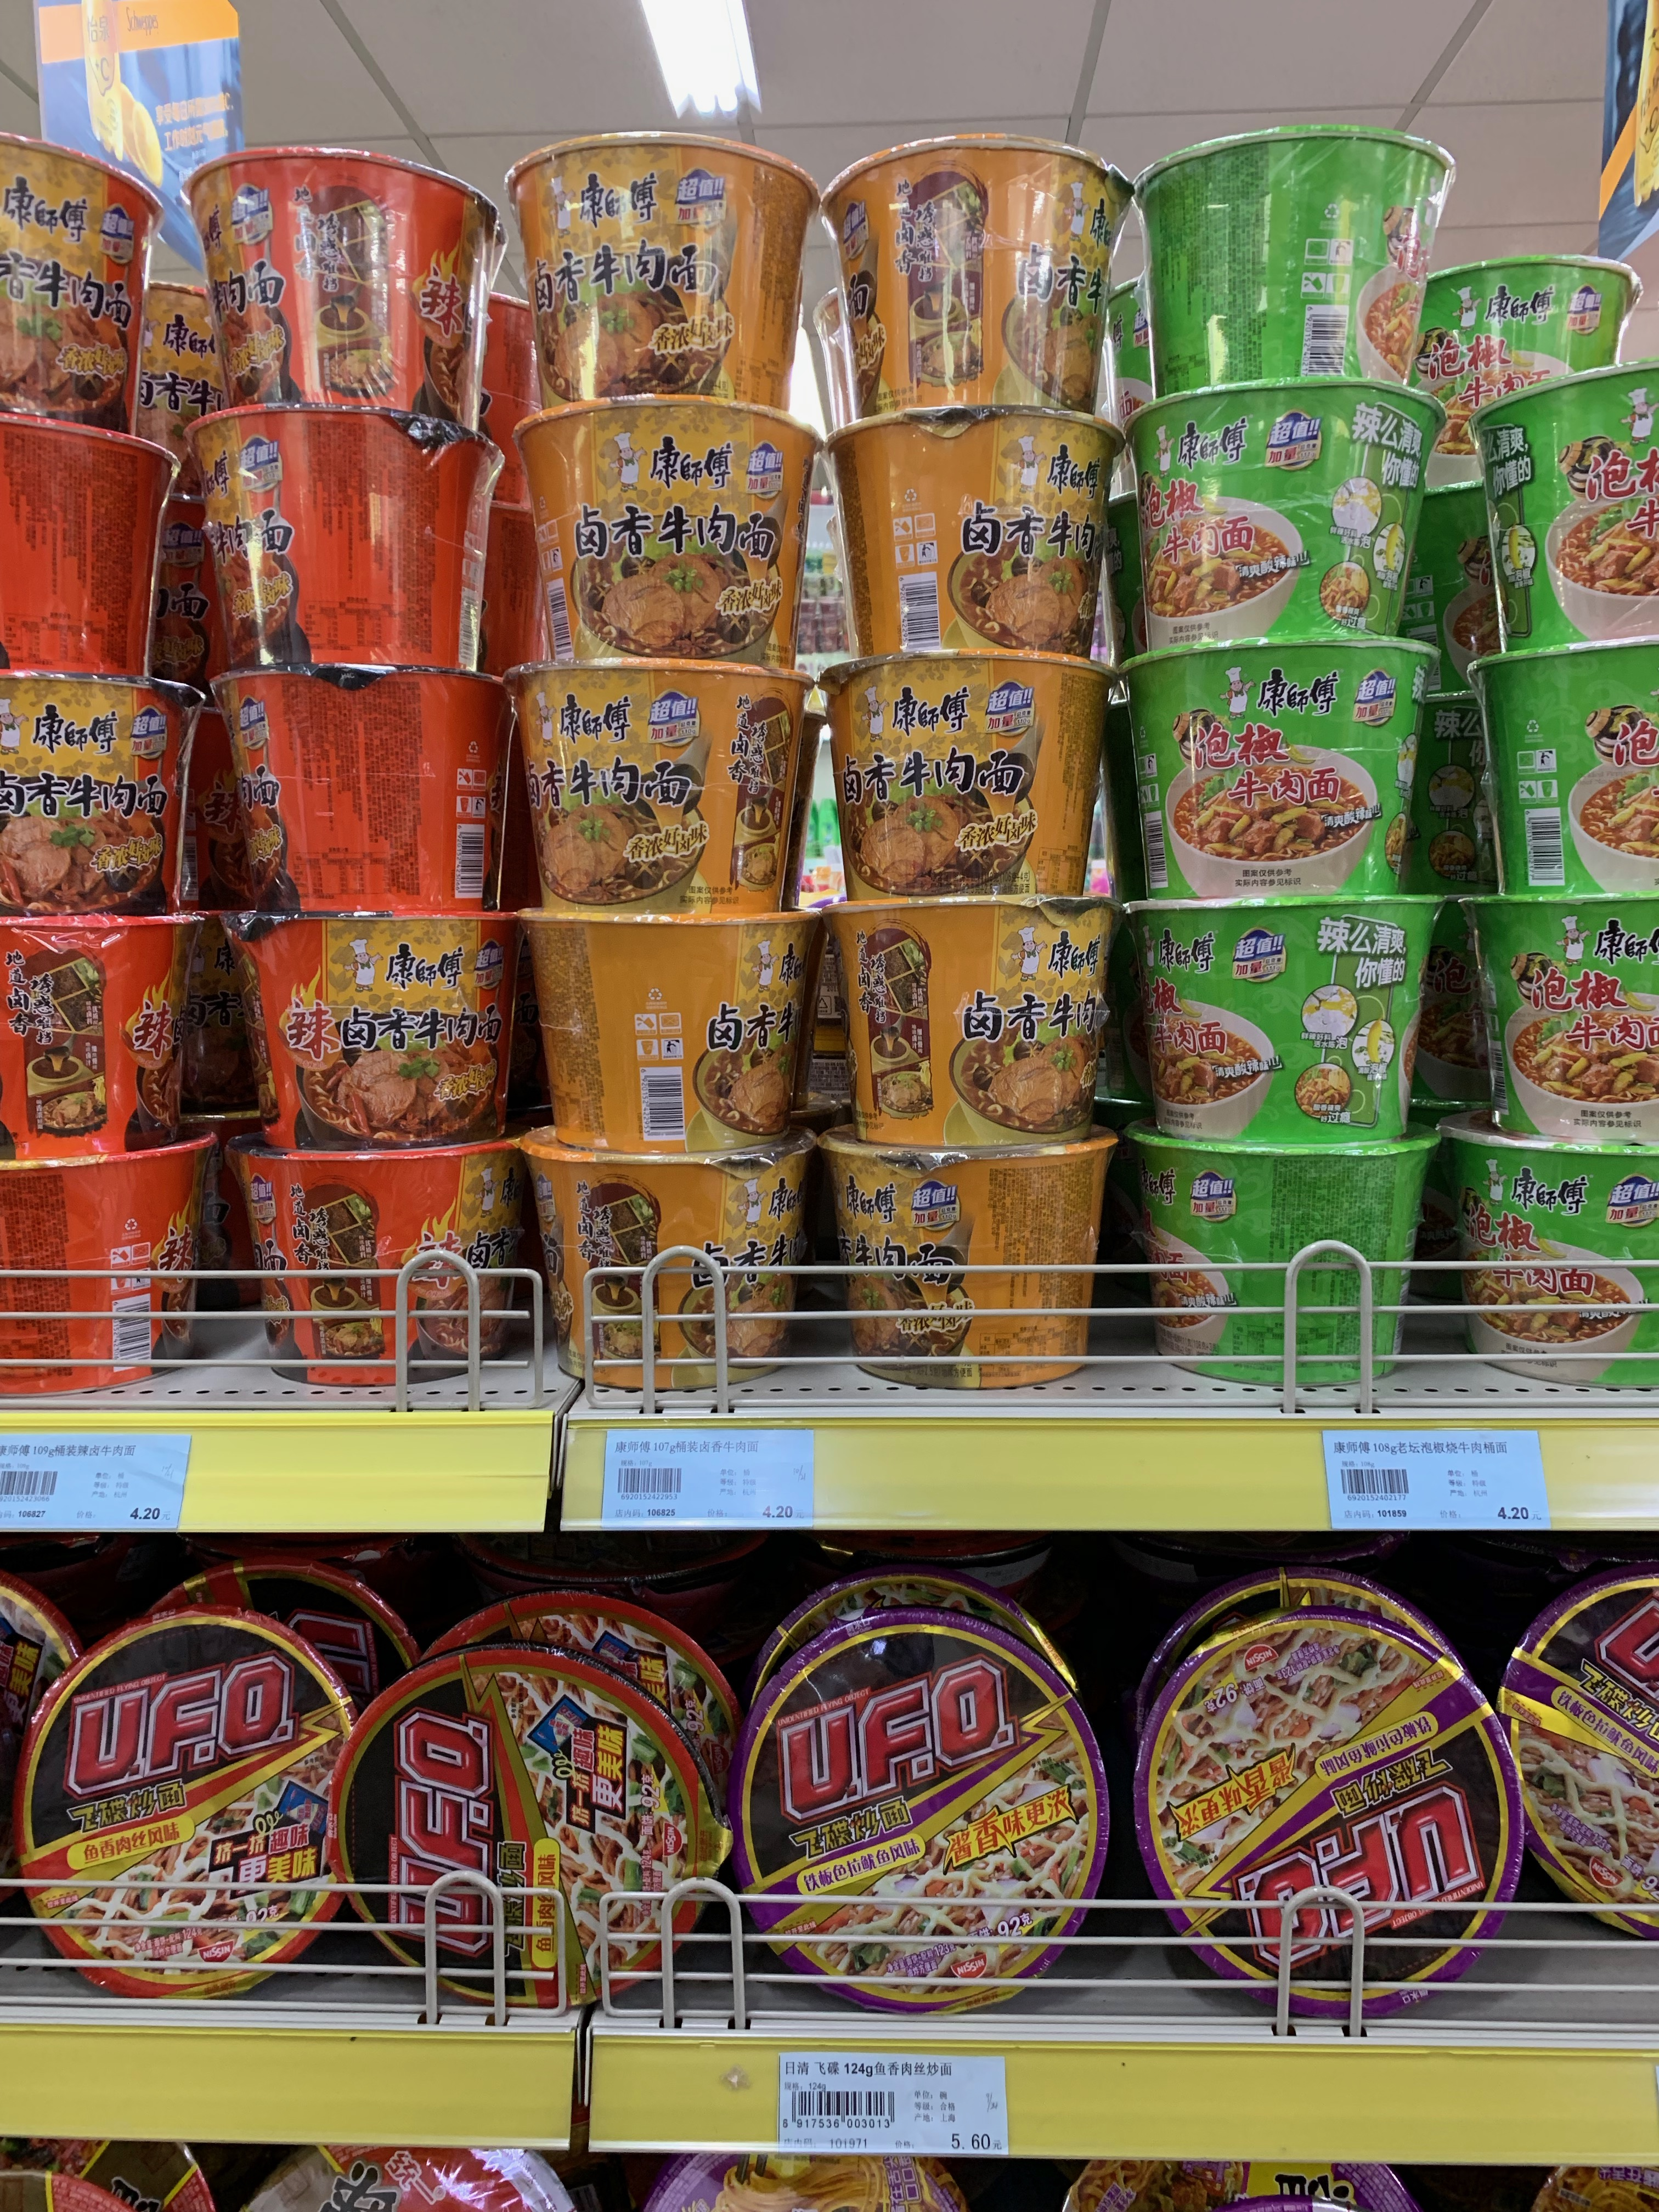luxiang: (823, 131, 1134, 408), (504, 131, 824, 395), (511, 395, 823, 658), (511, 907, 823, 1158), (511, 658, 819, 909), (812, 1148, 1122, 1393), (819, 648, 1119, 897), (830, 897, 1124, 1148), (823, 406, 1124, 648), (519, 1153, 812, 1395)
